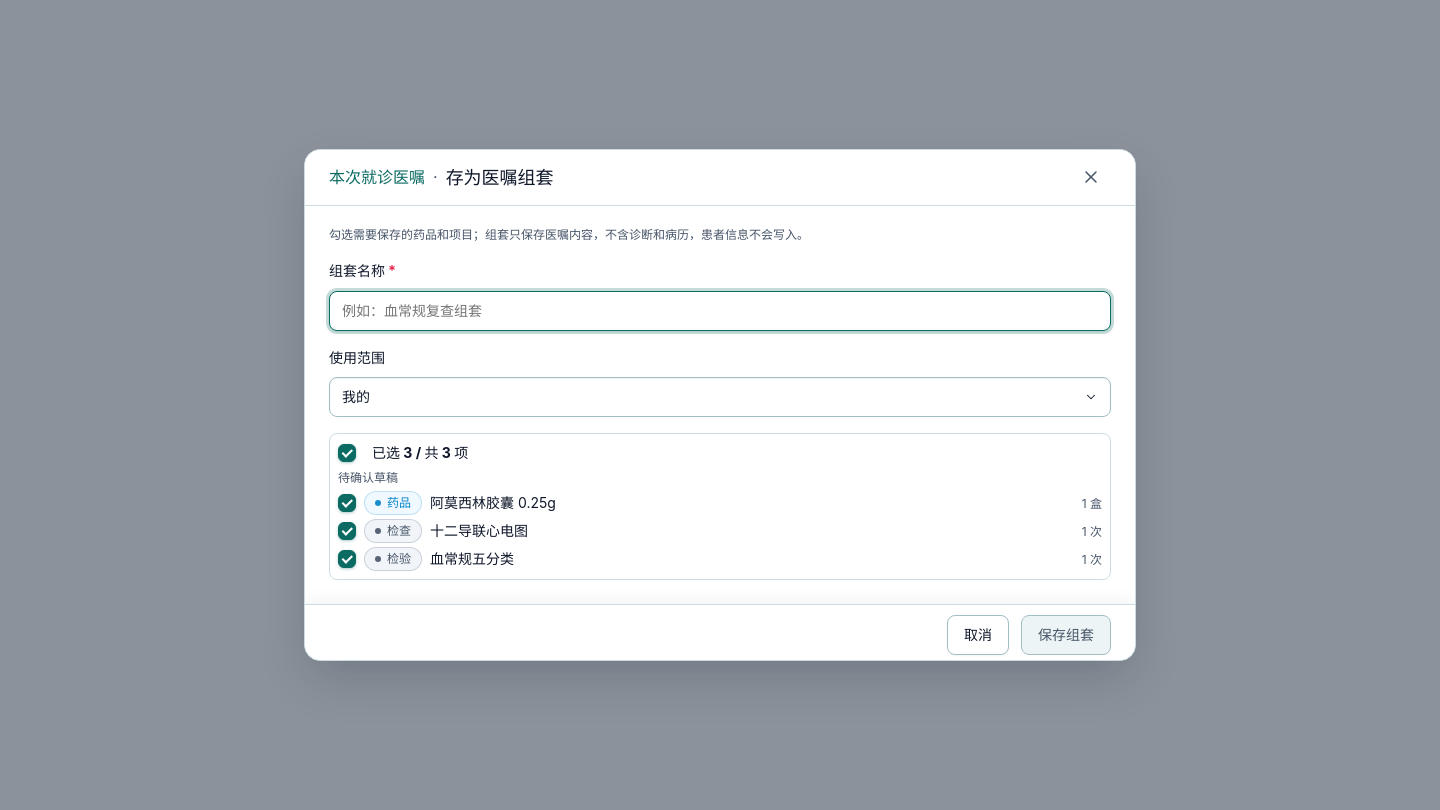
Test: SaveOrderSetDialog (医嘱区“存为组套”) › disables saving when every row is unchecked
In the field with placeholder "例如：血常规复查组套": (720, 310) x1=329 y1=290 x2=1111 y2=330, type "空组套"
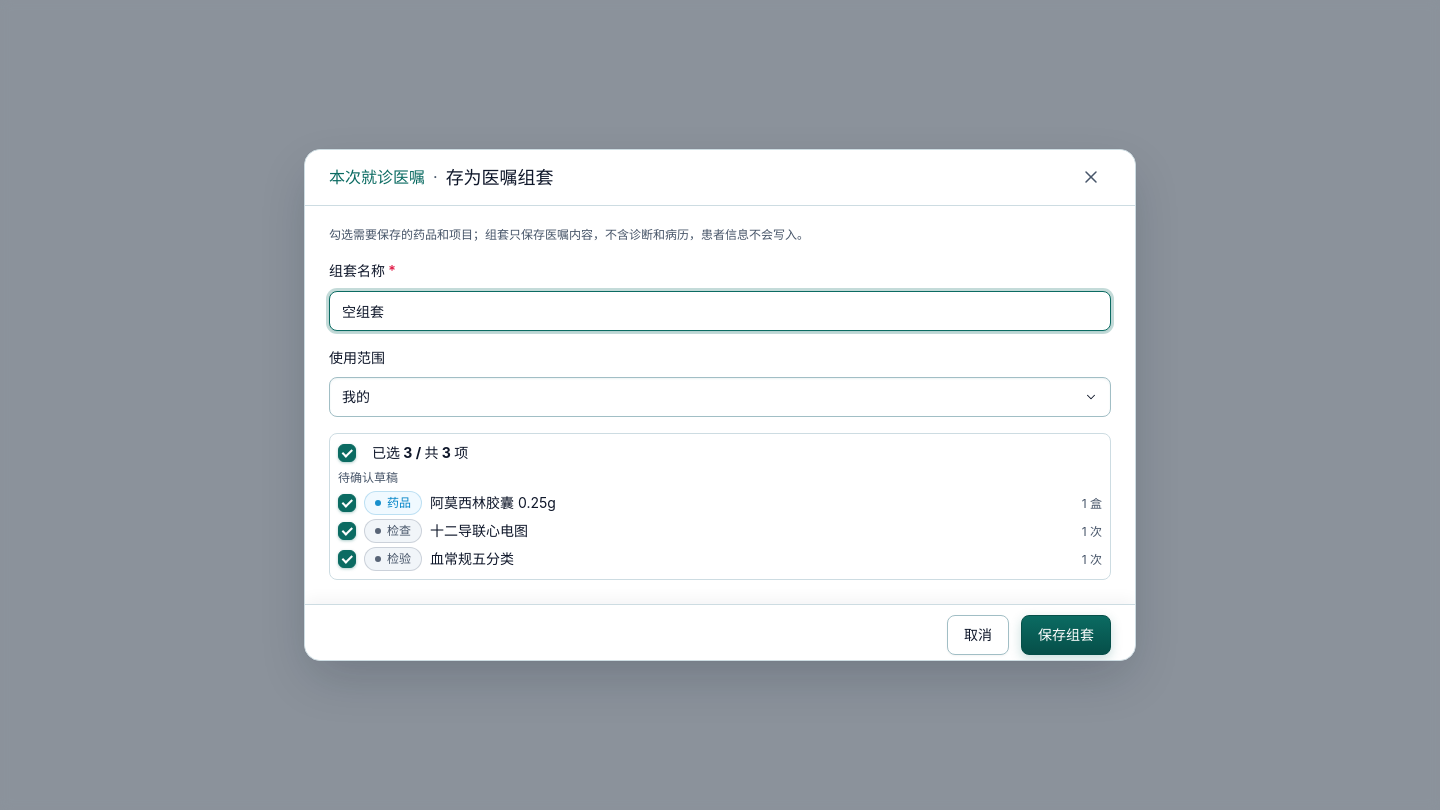
Click the checkbox named "全选医嘱": (347, 453) x1=338 y1=444 x2=356 y2=462
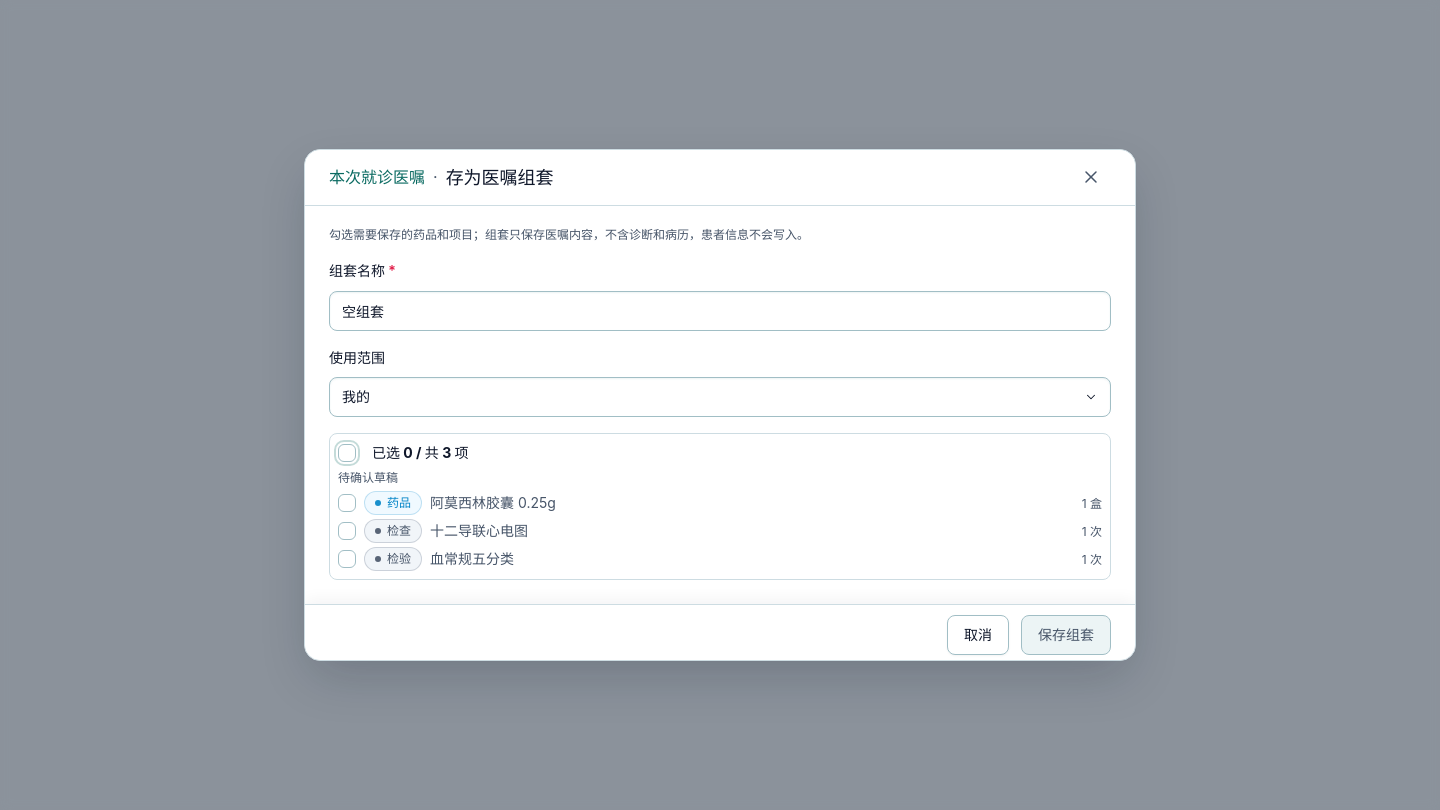
Check: the text "已选 0 / 共 3 项" is shown, box x1=372 y1=444 x2=468 y2=461
Check: the button "保存组套" is disabled, box x1=1021 y1=615 x2=1111 y2=655
